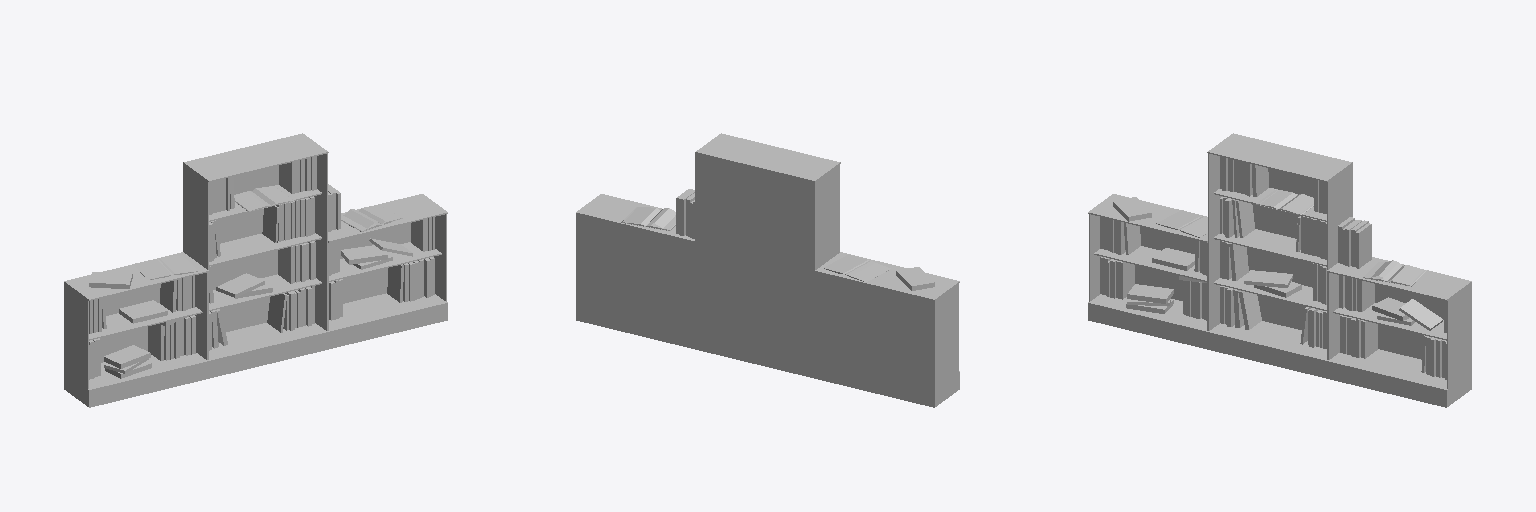
The model's file is Estante 1.obj.
The picture shows the model from 3 angles: view 1: azimuth 30°, elevation 25°; view 2: azimuth 150°, elevation 25°; view 3: azimuth 330°, elevation 25°; orthographic projection.
Parts seen in each view (by area): view 1: Book_Shelf_Base BookShelfs_Books_LOD1, BookShelfs_Books_LOD1 Book_Shelf_Base1, BookShelfs_Books_LOD1 Book_Shelf_Base2, Books_LOD1 OpenBook2, Books_LOD1 OpenBook, Books_LOD1 OpenBook1, Books_LOD1 Book81, Books_LOD1 Book103, Books_LOD1 Book168, Books_LOD1 Book129, Books_LOD1 Book62, Books_LOD1 Book39 (+3 smaller); view 2: Book_Shelf_Base BookShelfs_Books_LOD1, BookShelfs_Books_LOD1 Book_Shelf_Base1, BookShelfs_Books_LOD1 Book_Shelf_Base2, Books_LOD1 OpenBook2, Books_LOD1 OpenBook, Books_LOD1 Book129; view 3: Book_Shelf_Base BookShelfs_Books_LOD1, BookShelfs_Books_LOD1 Book_Shelf_Base2, BookShelfs_Books_LOD1 Book_Shelf_Base1, Books_LOD1 OpenBook, Books_LOD1 OpenBook1, Books_LOD1 OpenBook2, Books_LOD1 Book113, Books_LOD1 Book81, Books_LOD1 Book103, Books_LOD1 Book168, Books_LOD1 Book129, Books_LOD1 Book142 (+5 smaller).
Boxes of the visible parts, x1,y1,x2,y2 form: Book_Shelf_Base BookShelfs_Books_LOD1: [183, 133, 328, 378]; BookShelfs_Books_LOD1 Book_Shelf_Base1: [64, 252, 208, 407]; BookShelfs_Books_LOD1 Book_Shelf_Base2: [328, 194, 447, 348]; Books_LOD1 OpenBook2: [133, 255, 197, 279]; Books_LOD1 OpenBook: [341, 205, 402, 231]; Books_LOD1 OpenBook1: [234, 186, 293, 211]; Books_LOD1 Book81: [119, 300, 167, 323]; Books_LOD1 Book103: [104, 345, 150, 368]; Books_LOD1 Book168: [216, 273, 264, 297]; Books_LOD1 Book129: [89, 272, 132, 288]; Books_LOD1 Book62: [341, 245, 387, 264]; Books_LOD1 Book39: [267, 293, 286, 332]; Book_Shelf_Base BookShelfs_Books_LOD1: [695, 133, 840, 378]; BookShelfs_Books_LOD1 Book_Shelf_Base1: [815, 252, 959, 407]; BookShelfs_Books_LOD1 Book_Shelf_Base2: [576, 194, 694, 348]; Books_LOD1 OpenBook2: [824, 254, 890, 281]; Books_LOD1 OpenBook: [621, 207, 675, 230]; Books_LOD1 Book129: [896, 267, 934, 290]; Book_Shelf_Base BookShelfs_Books_LOD1: [1207, 133, 1352, 378]; BookShelfs_Books_LOD1 Book_Shelf_Base2: [1327, 257, 1471, 407]; BookShelfs_Books_LOD1 Book_Shelf_Base1: [1088, 194, 1207, 348]; Books_LOD1 OpenBook: [1363, 260, 1426, 286]; Books_LOD1 OpenBook1: [1255, 189, 1313, 215]; Books_LOD1 OpenBook2: [1156, 210, 1207, 237]; Books_LOD1 Book113: [1399, 299, 1442, 330]; Books_LOD1 Book81: [1152, 248, 1194, 270]; Books_LOD1 Book103: [1127, 284, 1173, 303]; Books_LOD1 Book168: [1244, 270, 1292, 287]; Books_LOD1 Book129: [1113, 197, 1151, 221]; Books_LOD1 Book142: [1238, 291, 1261, 329].
Bounding box in the file's own units: 8.39 × 4.41 × 1.04.